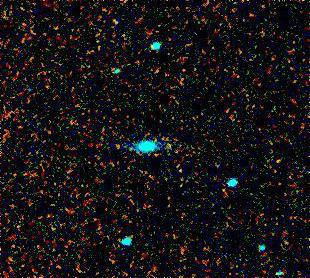star: (103, 132, 133, 162)
